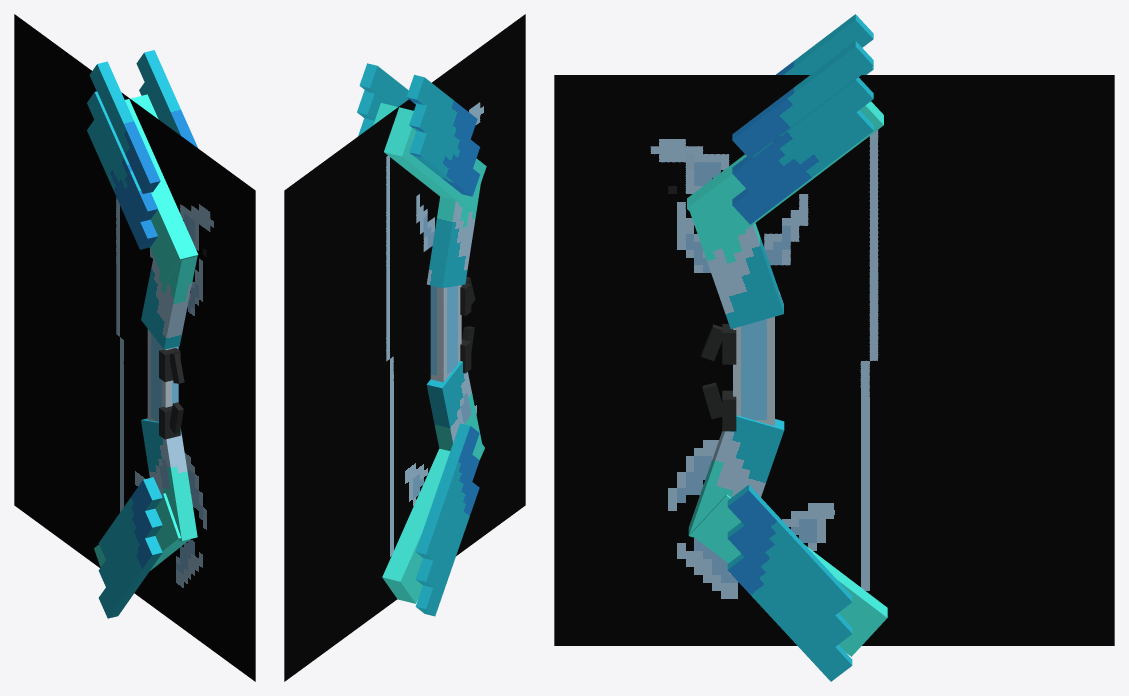
The model's file is bowace.gltf.
3 renders of one model, left to right at view 1: azimuth 30°, elevation 25°; view 2: azimuth 150°, elevation 25°; view 3: azimuth 270°, elevation 25°, orthographic. The views are drawn at different scales.
Visible parts, largest first — view 1: plane (×2), mesh (×14); view 2: plane (×2), mesh (×13); view 3: plane (×2), mesh (×12).
Part boxes in pixels (<box>): plane (×2): <box>14,14,255,681</box>; mesh (×14): <box>87,50,198,618</box>; plane (×2): <box>284,14,525,681</box>; mesh (×13): <box>357,63,486,616</box>; plane (×2): <box>554,75,1114,645</box>; mesh (×12): <box>687,14,887,681</box>.
Size of the model in its own units: 0.15 by 1.25 by 1.
Materials: 6 (6 with a texture image).
